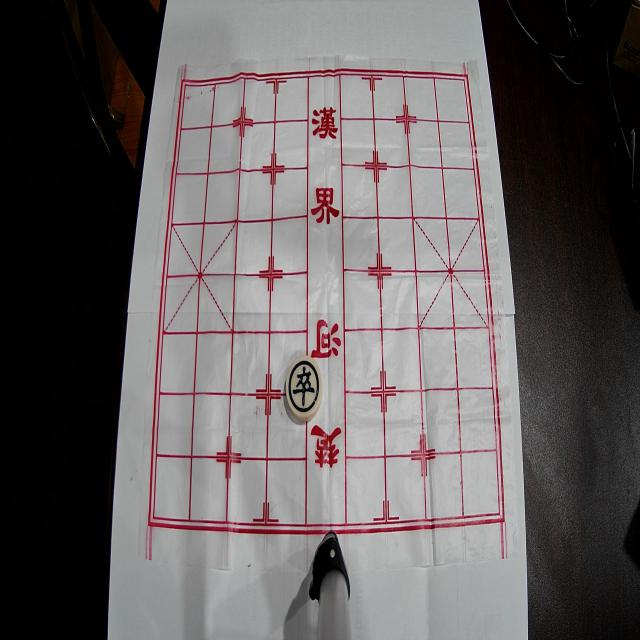black-soldier: (286, 355, 323, 421)
